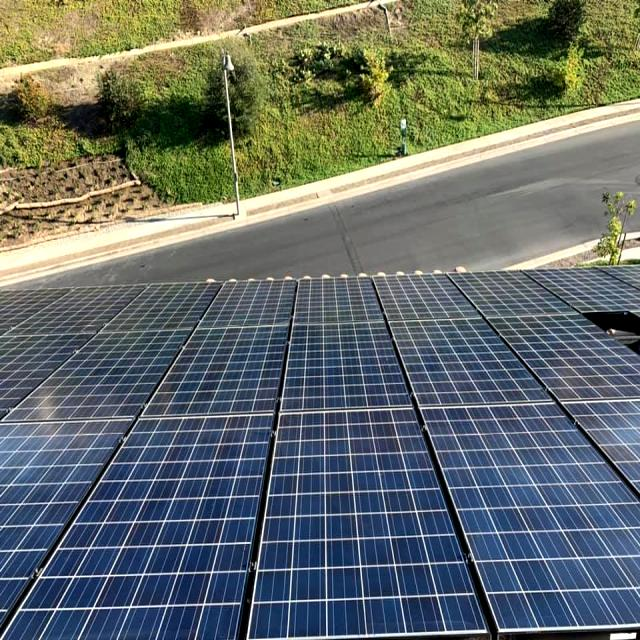crack: (138, 416, 255, 528), (50, 564, 164, 631), (70, 343, 150, 410), (296, 438, 385, 498), (19, 442, 91, 506), (436, 428, 526, 478), (290, 359, 390, 403), (408, 351, 498, 397), (177, 370, 273, 412), (528, 338, 605, 390), (294, 280, 388, 322), (560, 585, 626, 637), (351, 556, 411, 608), (254, 569, 297, 640), (411, 563, 487, 603), (321, 592, 384, 640), (432, 589, 496, 636), (512, 555, 590, 591), (488, 590, 543, 636), (470, 557, 530, 598), (359, 587, 405, 640), (518, 588, 578, 628), (326, 564, 368, 609), (286, 566, 330, 607), (290, 532, 332, 574), (384, 505, 426, 546), (260, 516, 306, 548), (420, 512, 460, 546), (292, 512, 331, 544), (326, 510, 364, 542), (257, 540, 296, 571), (362, 511, 396, 546)
